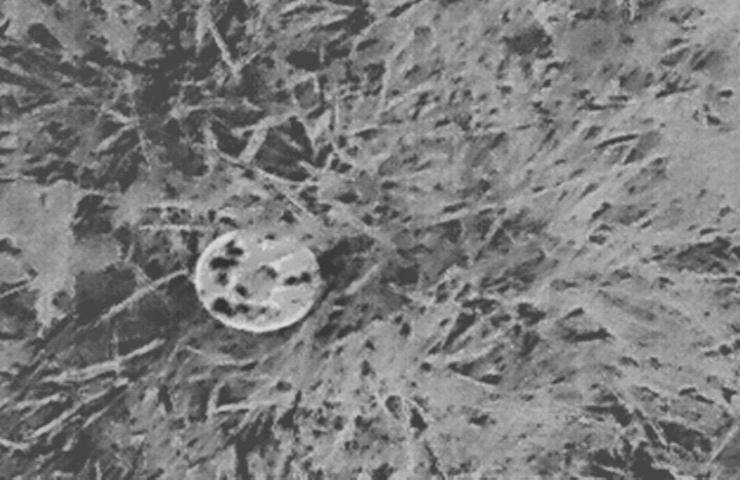landmines: (191, 224, 328, 338)
